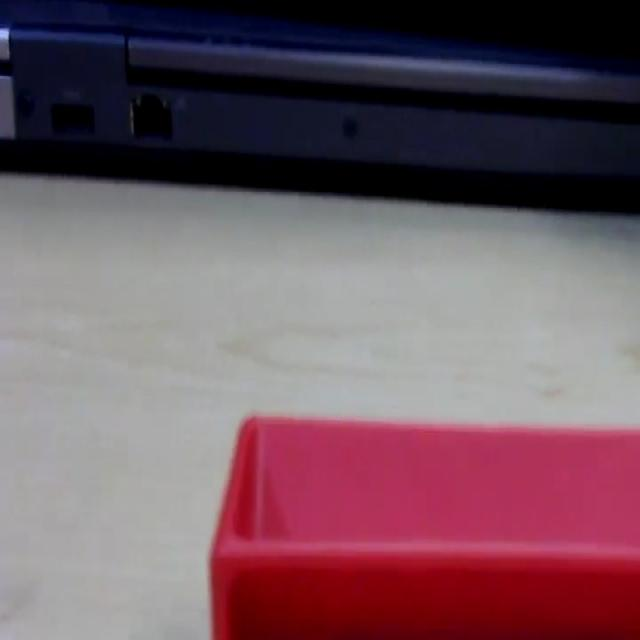red_block: (208, 409, 638, 636)
